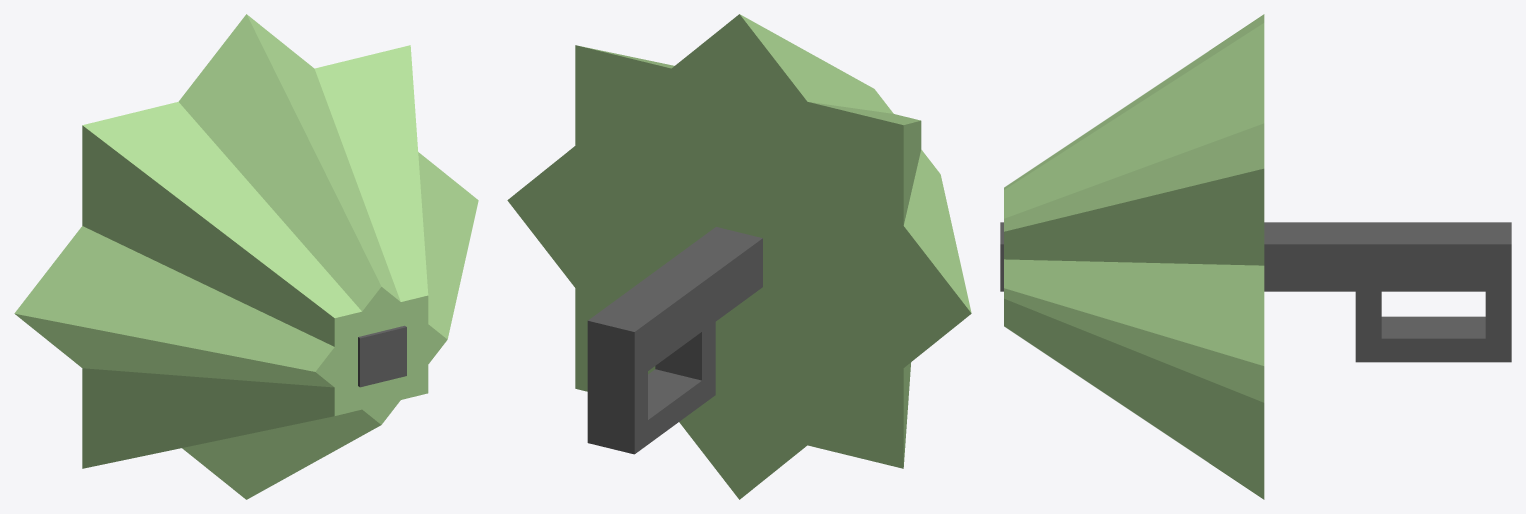
File: foldingUmbrella_open.gltf
3 renders of one model, left to right at view 1: azimuth 30°, elevation 25°; view 2: azimuth 150°, elevation 25°; view 3: azimuth 270°, elevation 25°, orthographic. The views are drawn at different scales.
Visible parts, largest first — view 1: 立方体.001, Cube.004; view 2: 立方体.001, Cube.004; view 3: 立方体.001, Cube.004.
Boxes of the visible parts, left/top/right/bottom form: 立方体.001: left=14, top=14, right=478, bottom=499; Cube.004: left=358, top=325, right=406, bottom=387; 立方体.001: left=507, top=14, right=971, bottom=499; Cube.004: left=587, top=227, right=762, bottom=454; 立方体.001: left=1004, top=14, right=1264, bottom=499; Cube.004: left=1000, top=222, right=1511, bottom=362.
Bounding box in the file's own units: 1.99 × 1.99 × 1.96.
